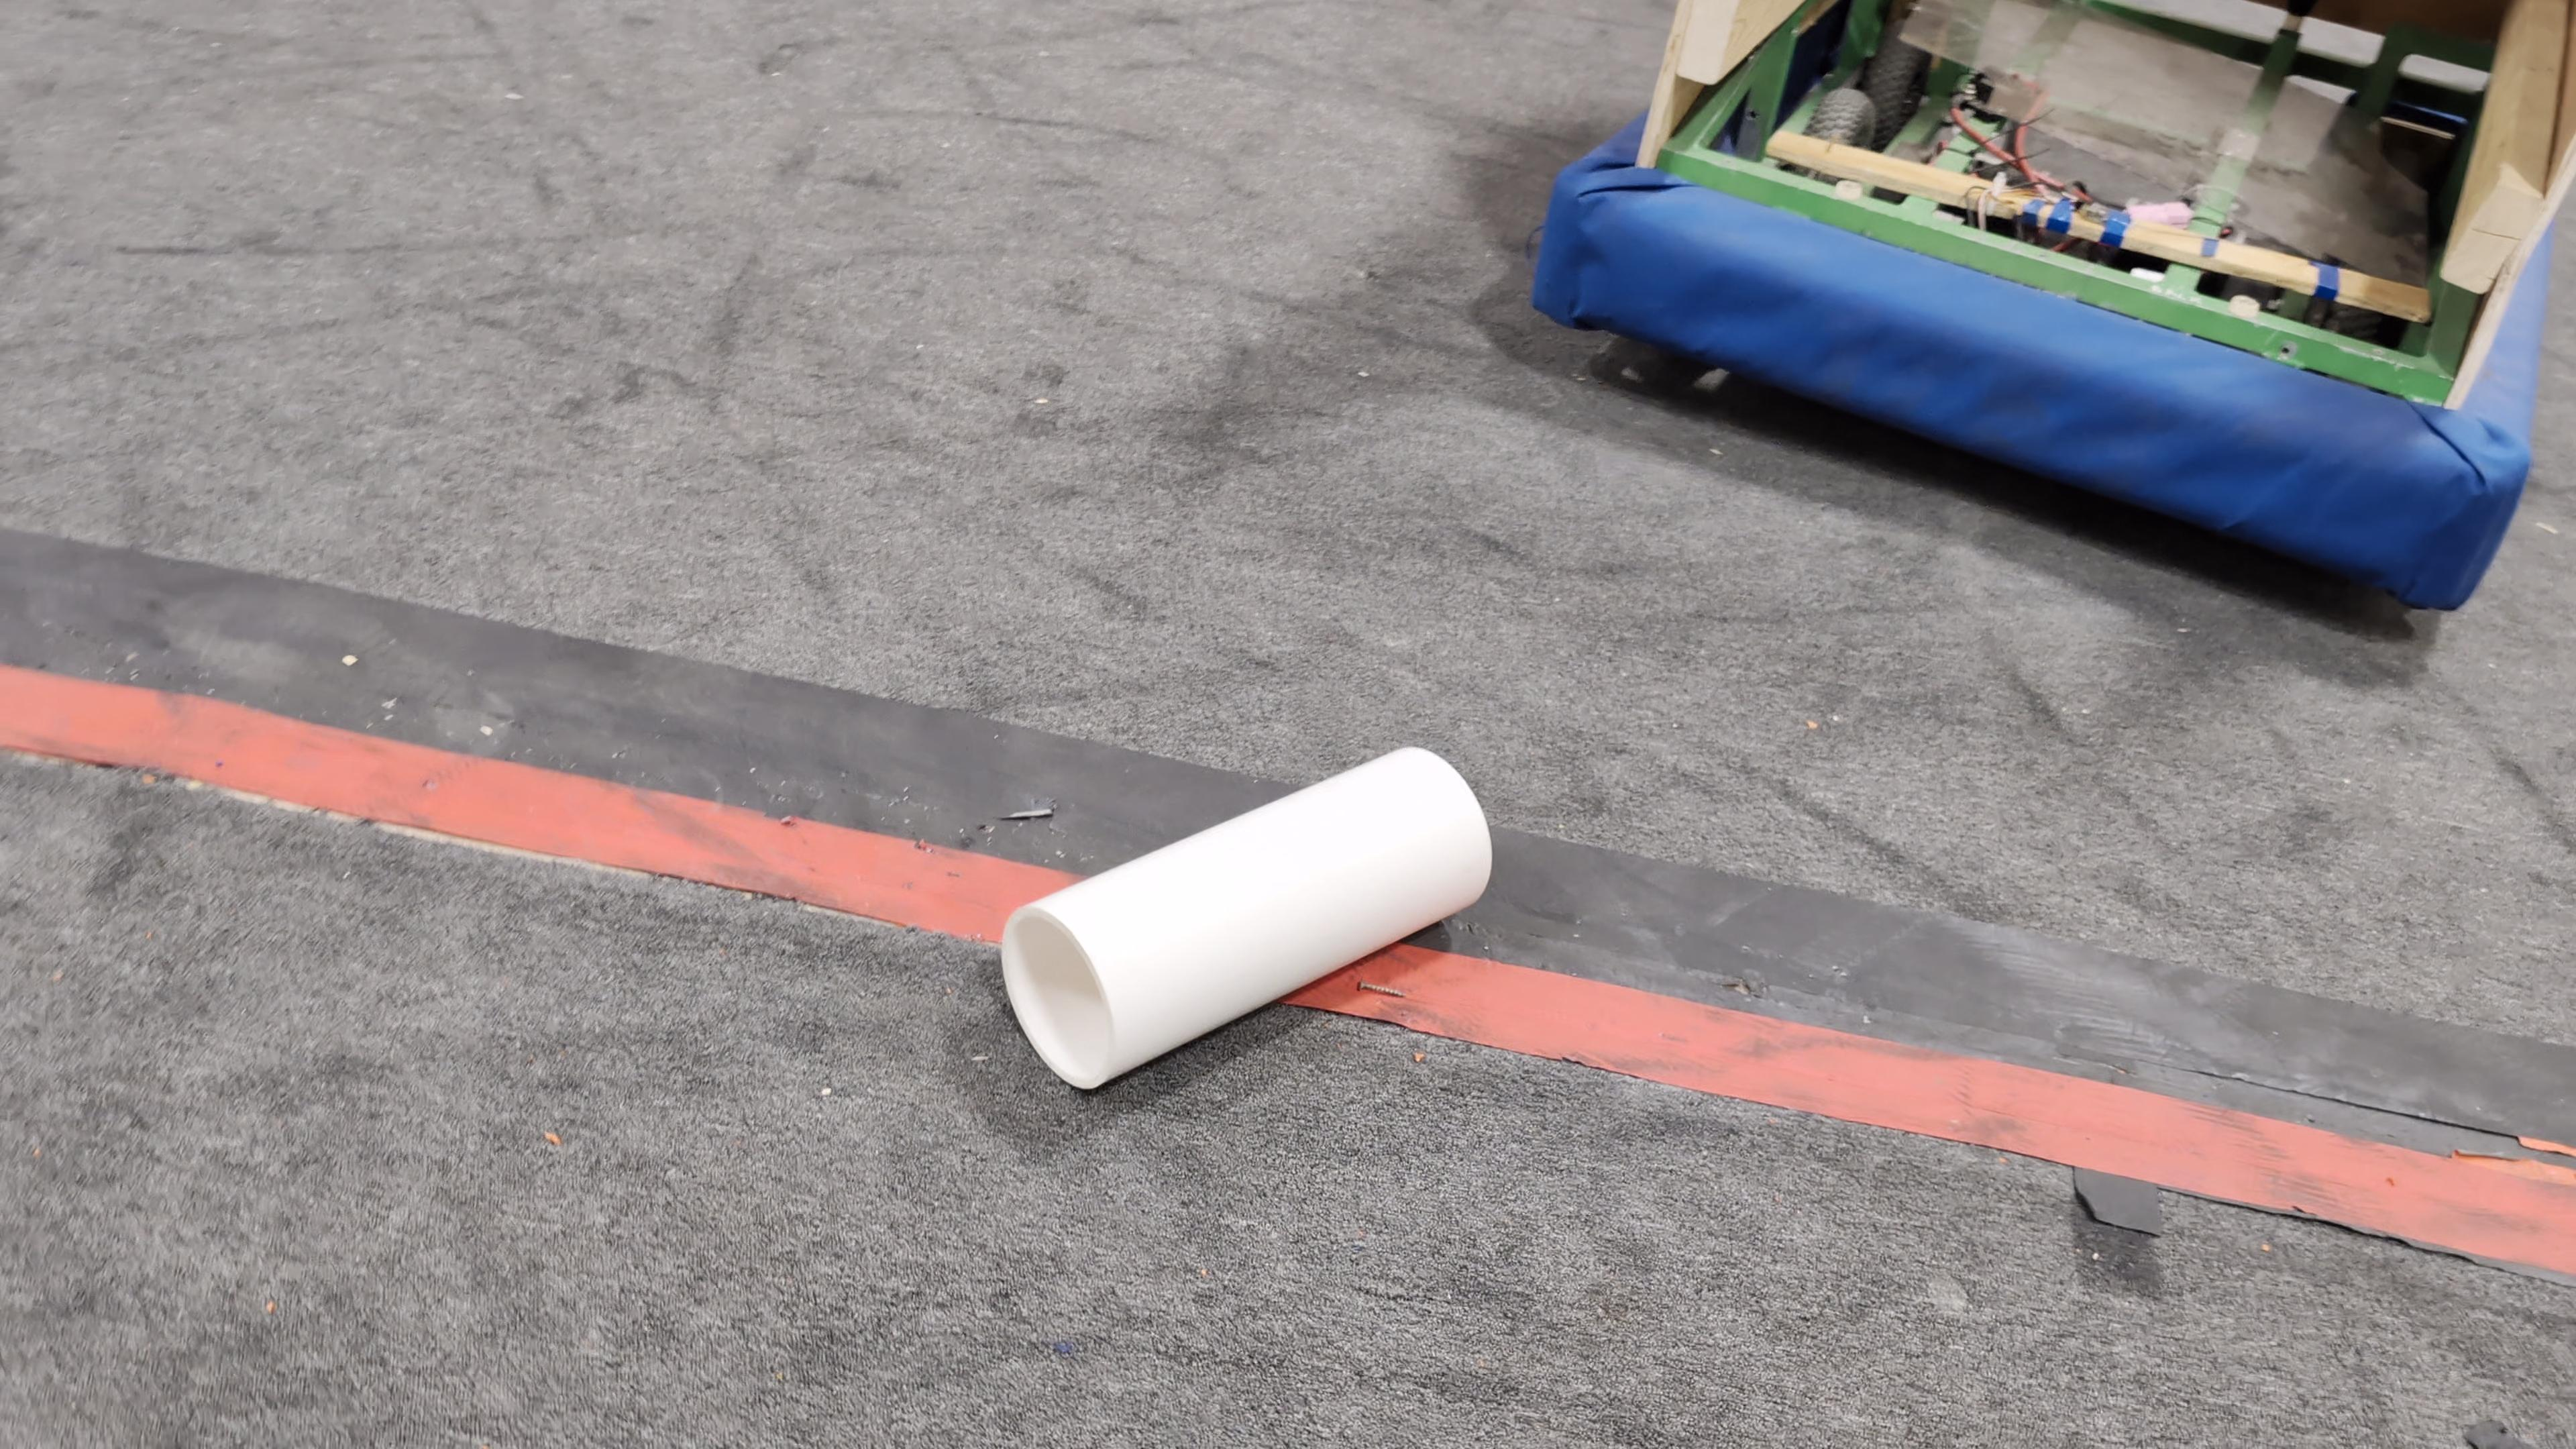coral: (996, 741, 1497, 1092)
